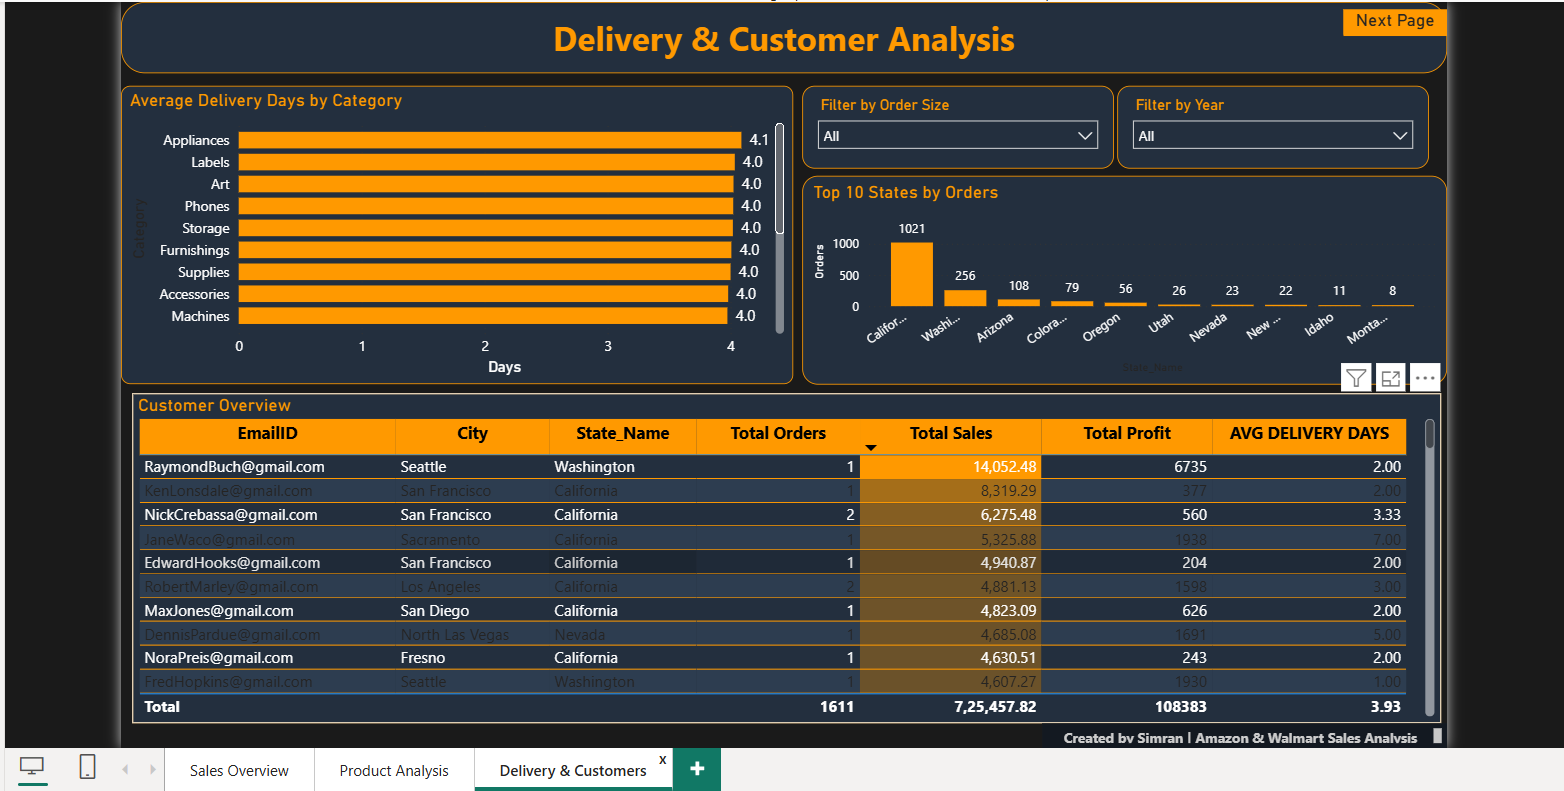

What the dashboard file says about the page in this screenshot:
{"tool":"powerbi","page":{"name":"Delivery & Customers","canvas":[1280,720],"ordinal":2},"visuals":[{"type":"textbox","box":[0,0,1280,68.8],"z":0},{"type":"clusteredBarChart","title":"Average Delivery Days by Category","fields":{"Category":["WORKING DATA.Category"],"Y":["WORKING DATA.AVG DELIVERY DAYS"]},"box":[0,80.8,649.1,288.3],"z":1000},{"type":"clusteredColumnChart","title":"Top 10 States by Orders","fields":{"Category":["WORKING DATA.State_Name"],"Y":["WORKING DATA.Total Orders"]},"box":[657.5,167.7,622.5,201.5],"z":2000},{"type":"tableEx","title":"Customer Overview","fields":{"Values":["WORKING DATA.EmailID","WORKING DATA.City","WORKING DATA.State_Name","WORKING DATA.Total Orders","WORKING DATA.Total Sales","WORKING DATA.Total Profit","WORKING DATA.AVG DELIVERY DAYS"]},"box":[10.9,377.6,1263.1,318.5],"z":3000},{"type":"slicer","fields":{"Values":["WORKING DATA.Order_Size"]},"box":[657.5,80.8,300.4,79.6],"z":4000},{"type":"slicer","fields":{"Values":["WORKING DATA.Year_col"]},"box":[961.5,80.8,300.4,79.6],"z":5000},{"type":"actionButton","title":"Next Page","box":[1179.9,7.2,100.1,25.3],"z":6000},{"type":"textbox","box":[889.1,696.1,390.9,24.1],"z":7000}]}

Visuals, with their boxes on the page's 1280x720 design canvas (x1, y1, x2, y2). These are canvas units, not pixel positions in the 1564x791 screenshot, which may show the page scaled, cropped or inside an application window:
textbox: <bbox>0, 0, 1280, 69</bbox>
"Average Delivery Days by Category" clusteredBarChart: <bbox>0, 81, 649, 369</bbox>
"Top 10 States by Orders" clusteredColumnChart: <bbox>658, 168, 1280, 369</bbox>
"Customer Overview" tableEx: <bbox>11, 378, 1274, 696</bbox>
slicer - WORKING DATA.Order_Size: <bbox>658, 81, 958, 160</bbox>
slicer - WORKING DATA.Year_col: <bbox>962, 81, 1262, 160</bbox>
"Next Page" actionButton: <bbox>1180, 7, 1280, 32</bbox>
textbox: <bbox>889, 696, 1280, 720</bbox>
